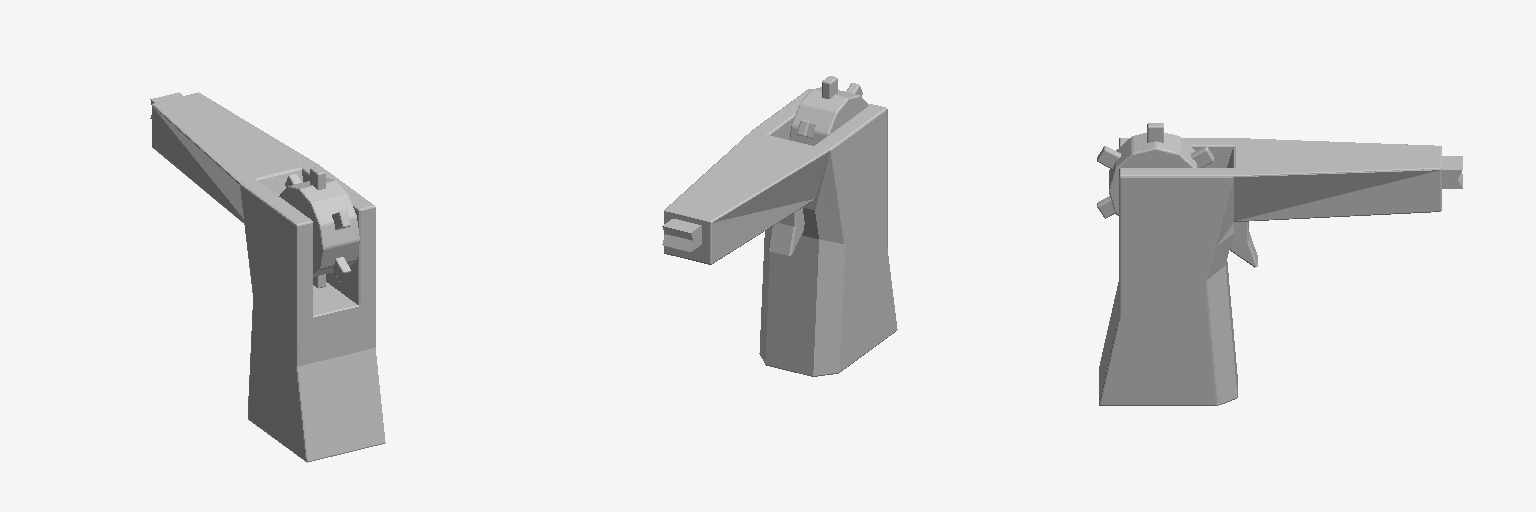
Rendered from rubber gun1.obj.
3 views of the same model, side by side, from view 1: azimuth 30°, elevation 25°; view 2: azimuth 150°, elevation 25°; view 3: azimuth 270°, elevation 25° (orthographic).
Visible parts, largest first — view 1: Plane; view 2: Plane; view 3: Plane.
Part boxes in pixels (x1,y1,x2,y2): Plane: (150, 92, 385, 462); Plane: (662, 76, 897, 376); Plane: (1097, 123, 1462, 405).
Size of the model in its own units: 0.04 by 0.1262 by 0.159.